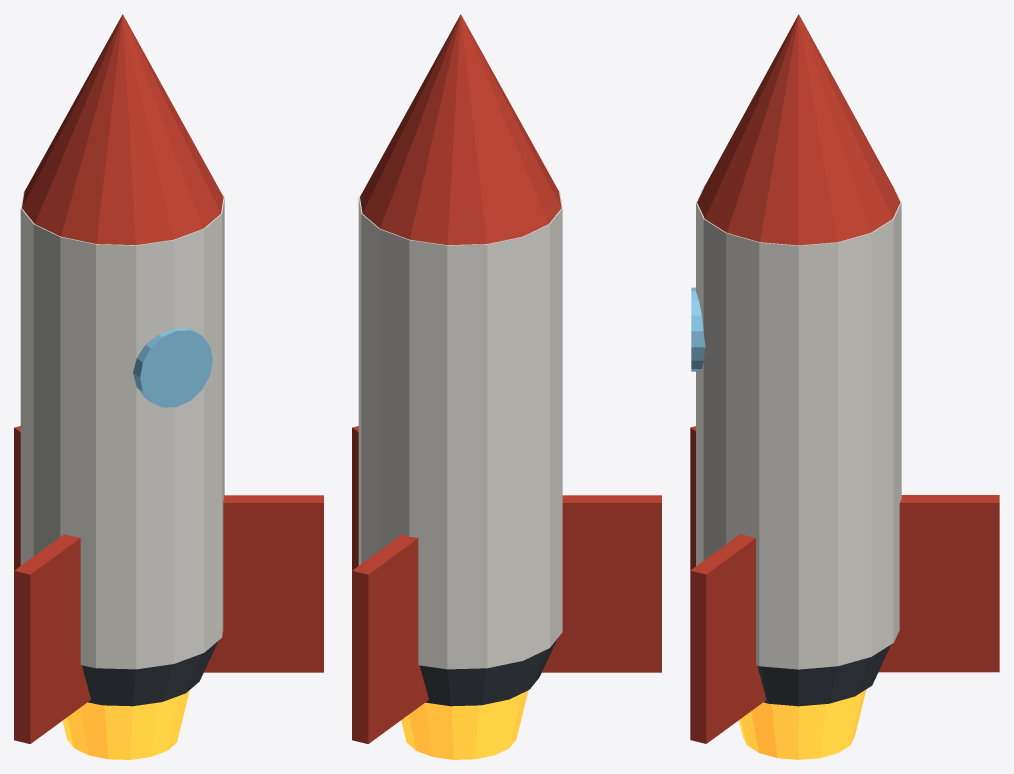
File: rocket-lod0.glb
3 views of the same model, side by side, from view 1: azimuth 30°, elevation 25°; view 2: azimuth 150°, elevation 25°; view 3: azimuth 270°, elevation 25° (orthographic).
Visible parts, largest first — view 1: rocket; view 2: rocket; view 3: rocket.
Part boxes in pixels (x1=…): rocket: x1=14, y1=14, x2=323, y2=759; rocket: x1=352, y1=14, x2=661, y2=759; rocket: x1=690, y1=14, x2=999, y2=759.
Size of the model in its own units: 0.7648 by 1.71 by 0.6623.
